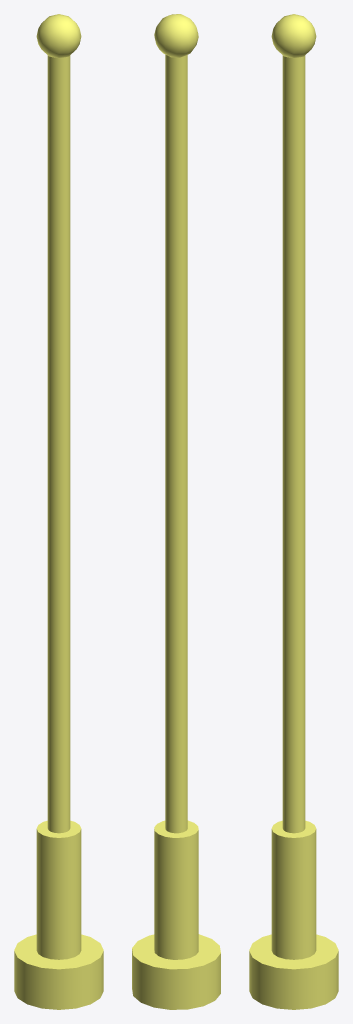
3 views of the same model, side by side, from view 1: azimuth 90°, elevation 25°; view 2: azimuth 150°, elevation 25°; view 3: azimuth 270°, elevation 25° (orthographic).
Parts seen in each view (by area): view 1: 2569.dat; view 2: 2569.dat; view 3: 2569.dat.
Part boxes in pixels (x1,y1,x2,y2): 2569.dat: (14,14,103,1009); 2569.dat: (132,14,220,1009); 2569.dat: (249,14,338,1009).
Size of the model in its own units: 0.0064 by 0.0768 by 0.0064.
